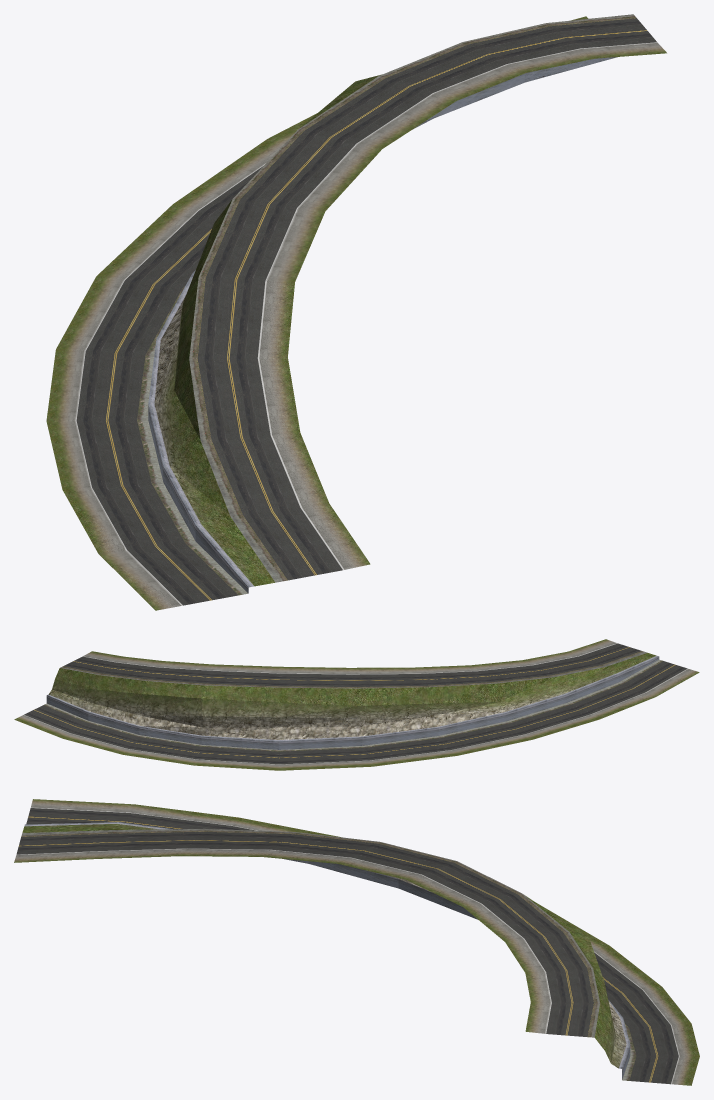
File: cunte_roads44.obj
3 renders of one model, top to bottom at view 1: azimuth 30°, elevation 25°; view 2: azimuth 150°, elevation 25°; view 3: azimuth 270°, elevation 25°, orthographic. The views are drawn at different scales.
Parts seen in each view (by area): view 1: cunte_roads44; view 2: cunte_roads44; view 3: cunte_roads44.
Part boxes in pixels (box(x1,y1,x2,y2)): cunte_roads44: box(46, 14, 666, 610); cunte_roads44: box(14, 639, 699, 770); cunte_roads44: box(14, 799, 699, 1085).
Size of the model in its own units: 173 by 19.63 by 163.
5 materials, 5 textured.
